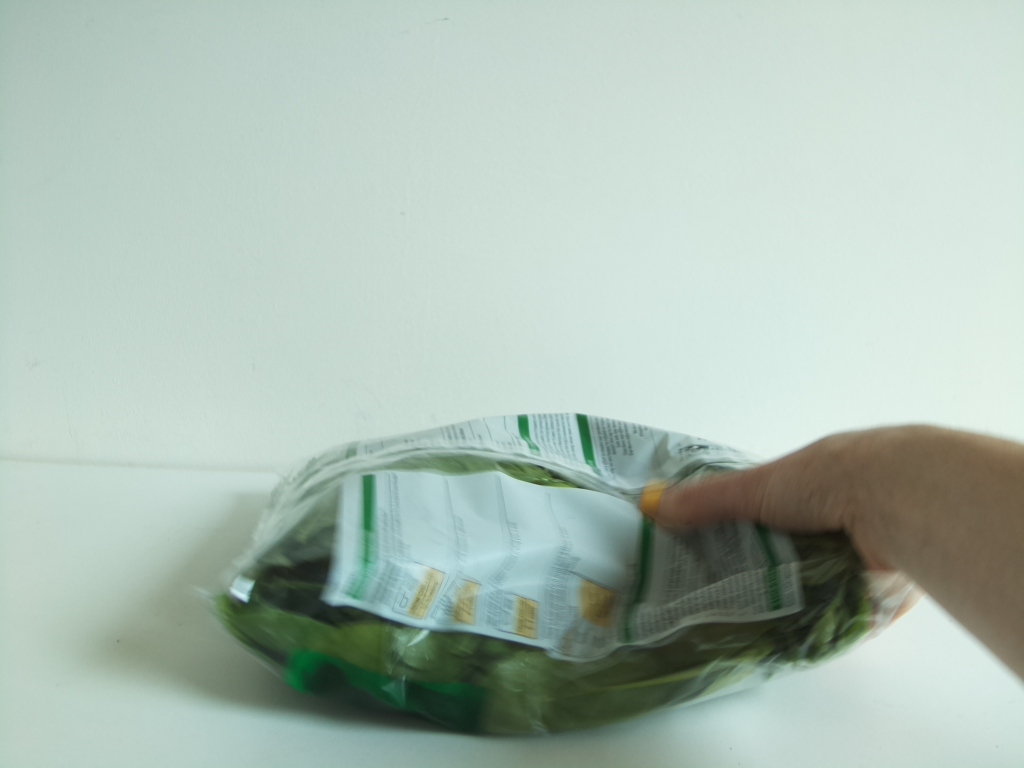salad: (212, 405, 919, 740)
